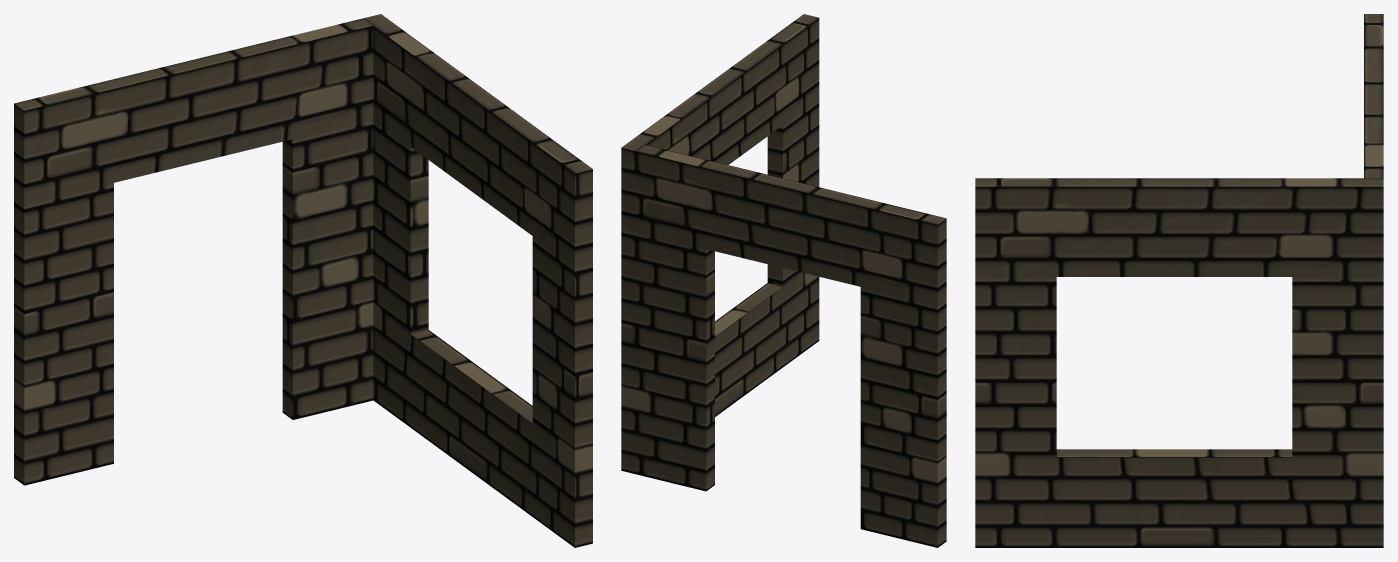
File: Wall_2_Corner_E.fbx
3 renders of one model, left to right at view 1: azimuth 30°, elevation 25°; view 2: azimuth 150°, elevation 25°; view 3: azimuth 270°, elevation 25°, orthographic. The views are drawn at different scales.
Visible parts, largest first — view 1: polySurface15; view 2: polySurface15; view 3: polySurface15.
Boxes of the visible parts, x1,y1,x2,y2 form: polySurface15: [14, 14, 592, 547]; polySurface15: [621, 14, 946, 547]; polySurface15: [975, 14, 1383, 547].
Size of the model in its own units: 4.1 by 4 by 4.1.
